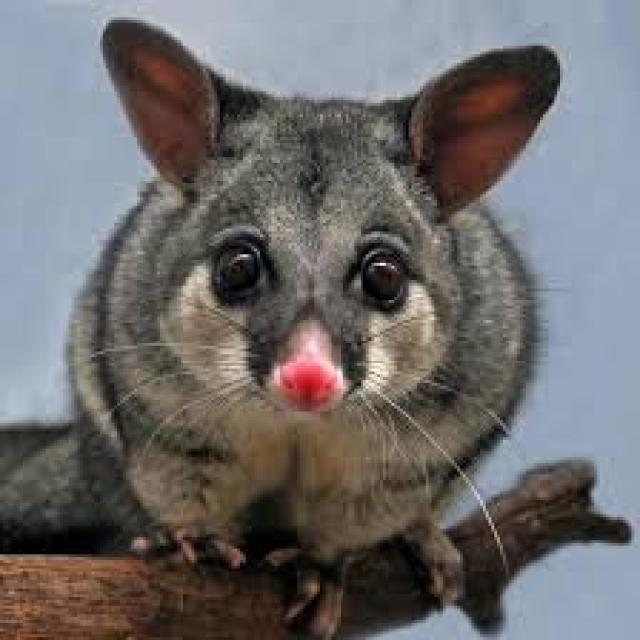Possum: (8, 10, 560, 624)
